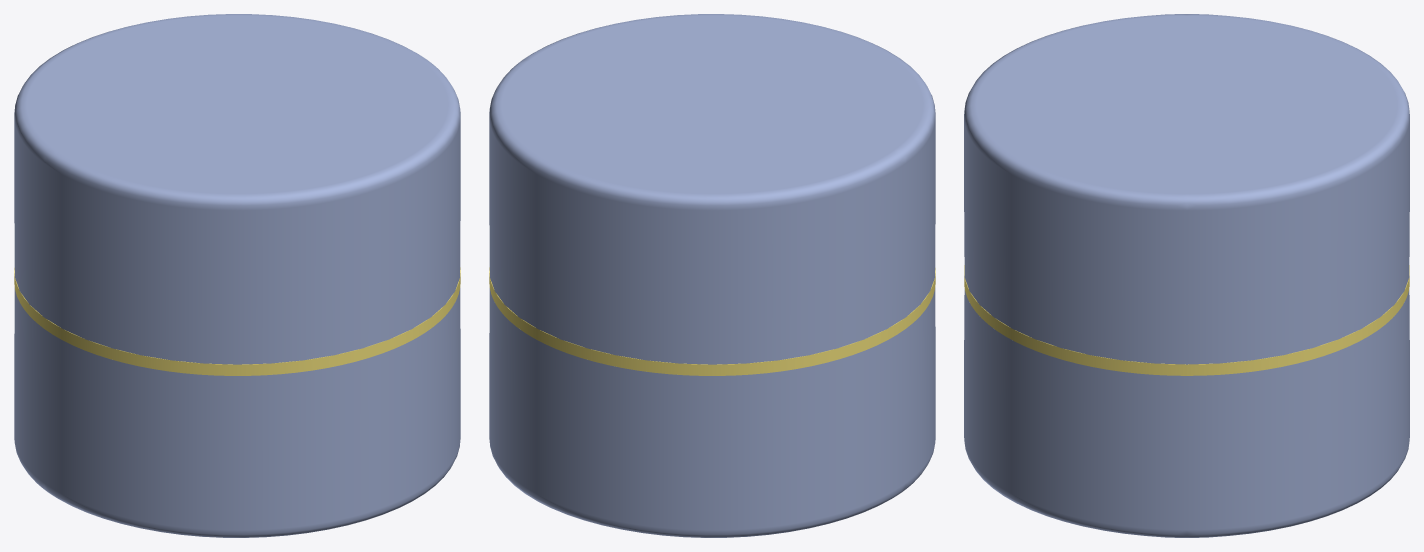
File: 小原子左膝盖.glb
The picture shows the model from 3 angles, left to right: view 1: azimuth 30°, elevation 25°; view 2: azimuth 150°, elevation 25°; view 3: azimuth 270°, elevation 25°; orthographic projection.
Bounding box in the file's own units: 0.0696 × 0.0589 × 0.0696.
